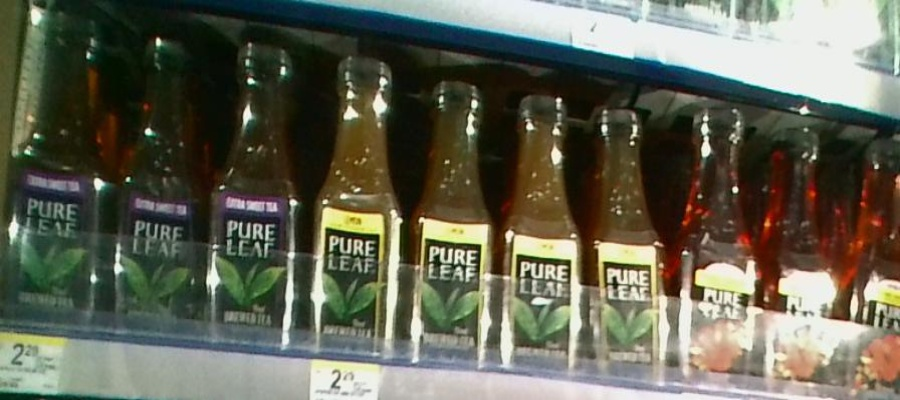bottle: (6, 1, 108, 327), (203, 33, 302, 348), (306, 48, 405, 354), (113, 18, 201, 331), (499, 80, 585, 371), (411, 74, 495, 368), (677, 101, 760, 387), (587, 106, 671, 378), (764, 124, 838, 382), (846, 133, 900, 394)
